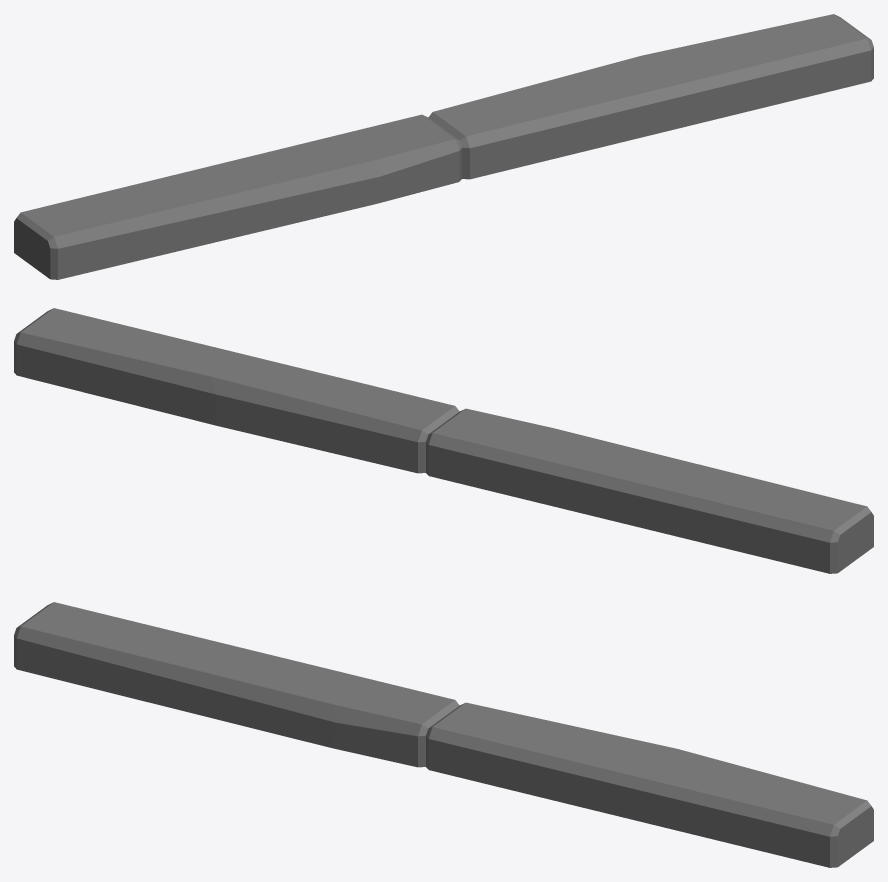
File: SM_Envr_Road_Sidewalk_Edge_01.fbx
3 renders of one model, top to bottom at view 1: azimuth 30°, elevation 25°; view 2: azimuth 150°, elevation 25°; view 3: azimuth 330°, elevation 25°, orthographic.
Visible parts, largest first — view 1: SM_Envr_Road_Sidewalk_Edge_01; view 2: SM_Envr_Road_Sidewalk_Edge_01; view 3: SM_Envr_Road_Sidewalk_Edge_01.
Boxes of the visible parts, x1,y1,x2,y2 form: SM_Envr_Road_Sidewalk_Edge_01: [14, 14, 873, 279]; SM_Envr_Road_Sidewalk_Edge_01: [14, 308, 873, 573]; SM_Envr_Road_Sidewalk_Edge_01: [14, 602, 873, 867].
Size of the model in its own units: 500 by 25.53 by 46.82.
